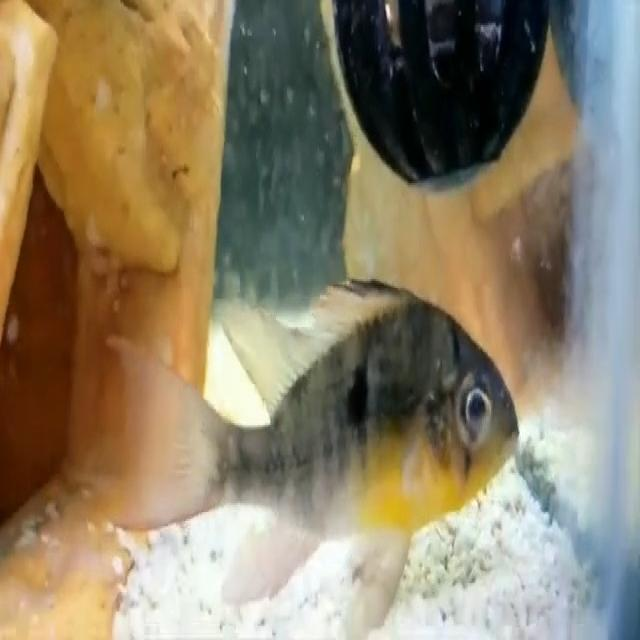fish: (120, 274, 524, 622)
